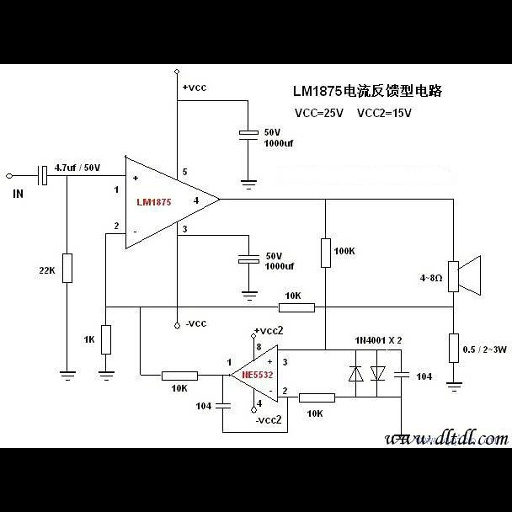amplifier: (120, 151, 223, 250), (228, 342, 282, 404)
capacitor: (214, 399, 233, 414), (392, 368, 411, 382)
firstresistance: (154, 365, 207, 383), (57, 247, 78, 289), (274, 299, 319, 317), (297, 389, 339, 406), (316, 234, 333, 273), (447, 327, 462, 369), (99, 321, 114, 359)
gnd: (442, 379, 468, 396), (238, 289, 262, 303), (95, 370, 120, 383), (238, 178, 260, 192), (57, 370, 78, 383)
loudspeaker: (446, 254, 487, 299)
seconddiode: (345, 363, 366, 385), (368, 363, 388, 383)
